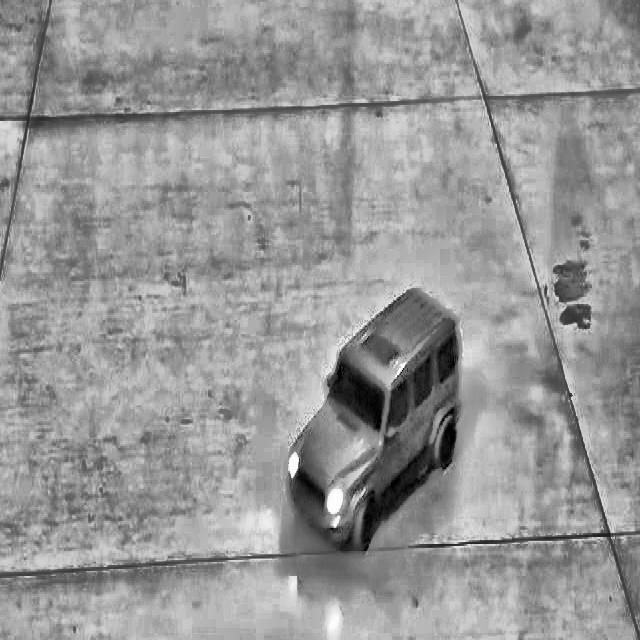light_vehicle: (265, 277, 466, 532)
